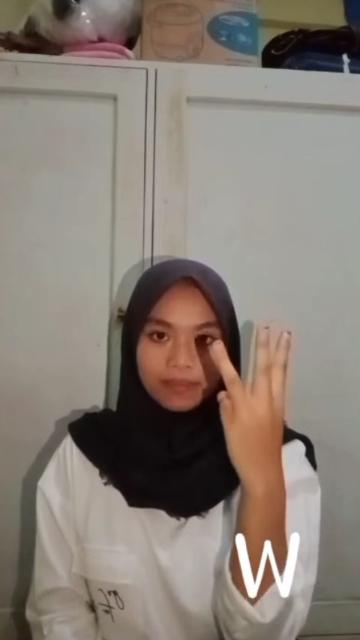W: (208, 324, 310, 490)
